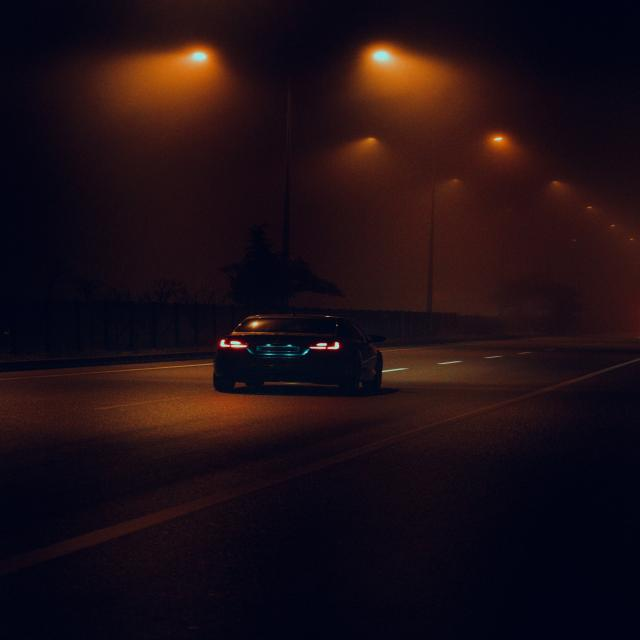car: (210, 312, 388, 392)
